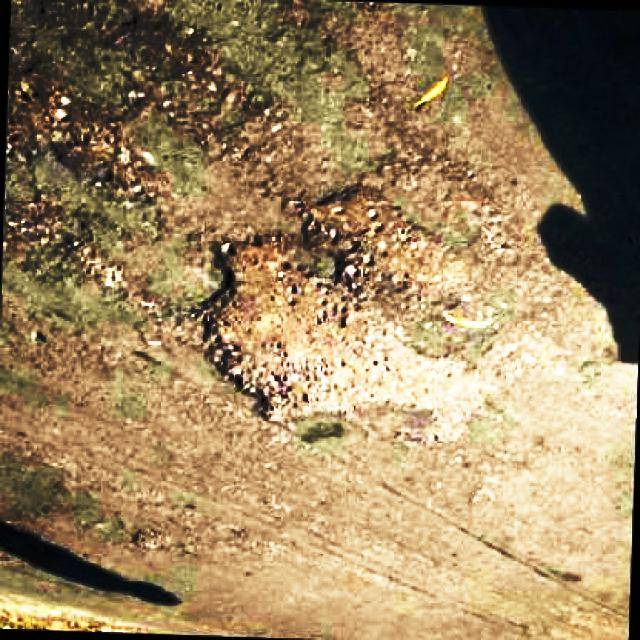pothole: (188, 226, 477, 432)
